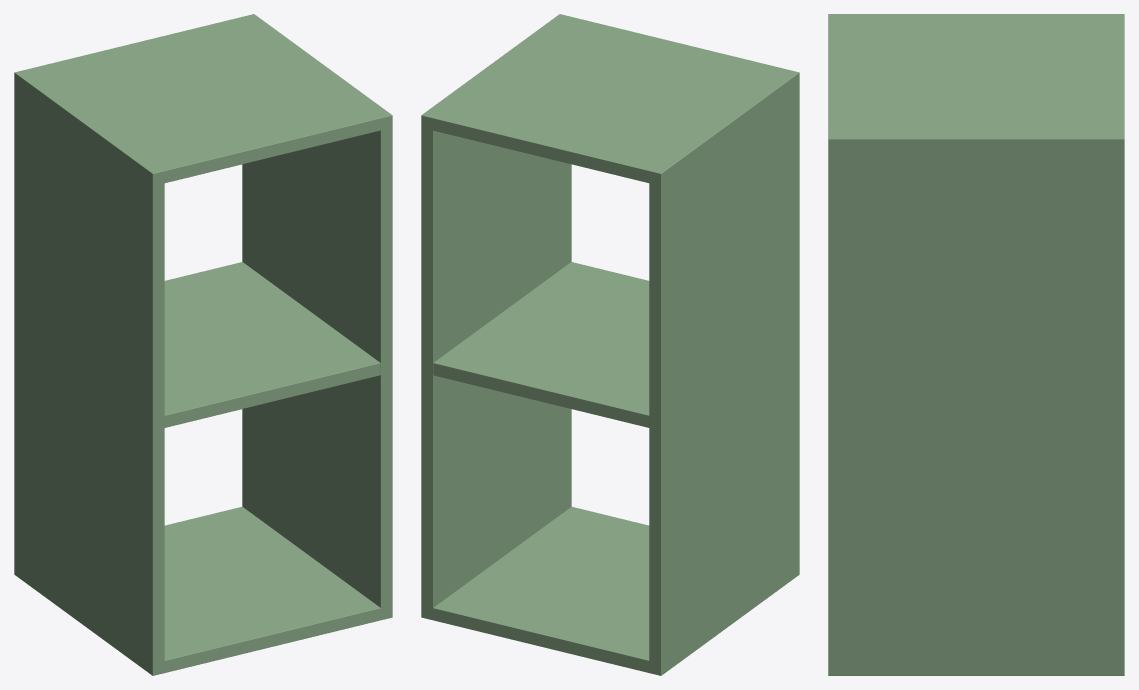
File: MOD-1X2-S-O-SA.glb
3 renders of one model, left to right at view 1: azimuth 30°, elevation 25°; view 2: azimuth 150°, elevation 25°; view 3: azimuth 270°, elevation 25°, orthographic. The views are drawn at different scales.
Size of the model in its own units: 360 by 720 by 360.
